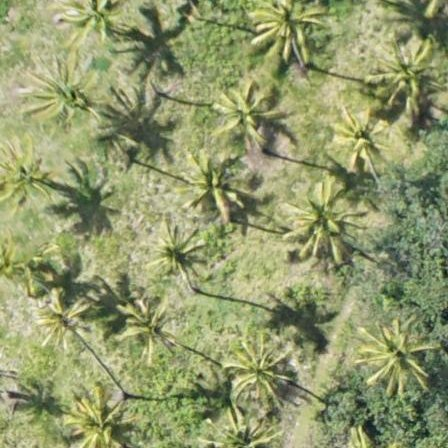palm_tree: (359, 317, 431, 394), (23, 53, 89, 123), (283, 183, 349, 253), (113, 291, 179, 361), (375, 37, 440, 106), (180, 148, 243, 215), (247, 1, 323, 55), (225, 343, 290, 401), (139, 217, 198, 280), (1, 140, 52, 207), (28, 287, 84, 347), (215, 79, 271, 138), (69, 392, 124, 448), (331, 111, 387, 161), (60, 1, 128, 41)
